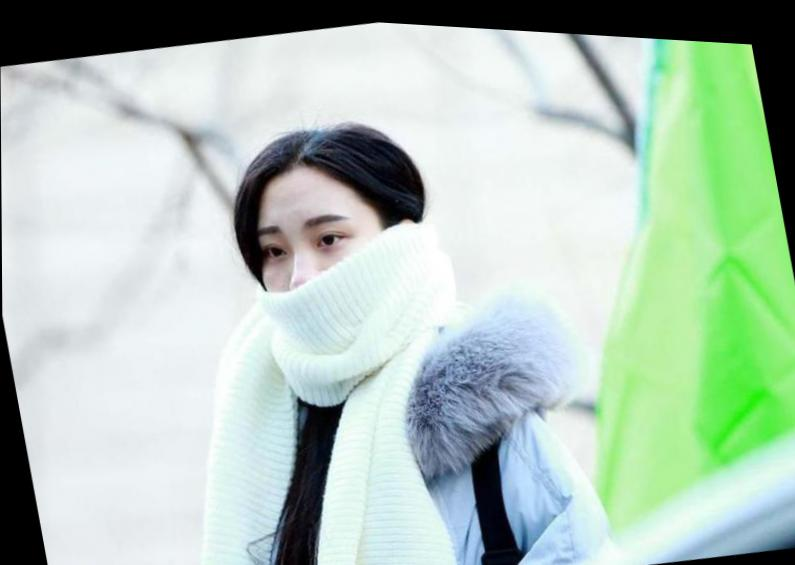WRONG: (243, 171, 395, 350)
